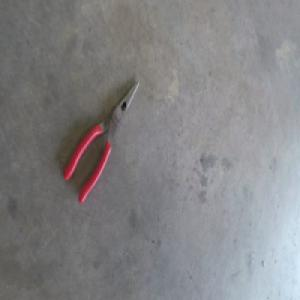Pliers: (63, 79, 139, 202)
